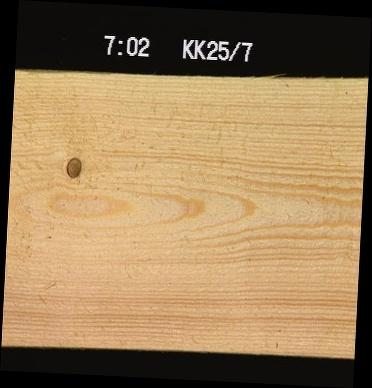dry_knot: (63, 154, 81, 178)
